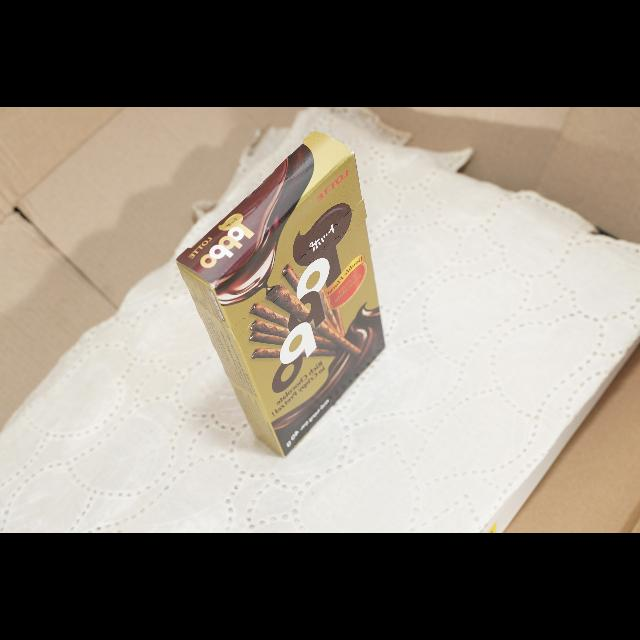banh_toppo_socola: (177, 131, 384, 456)
